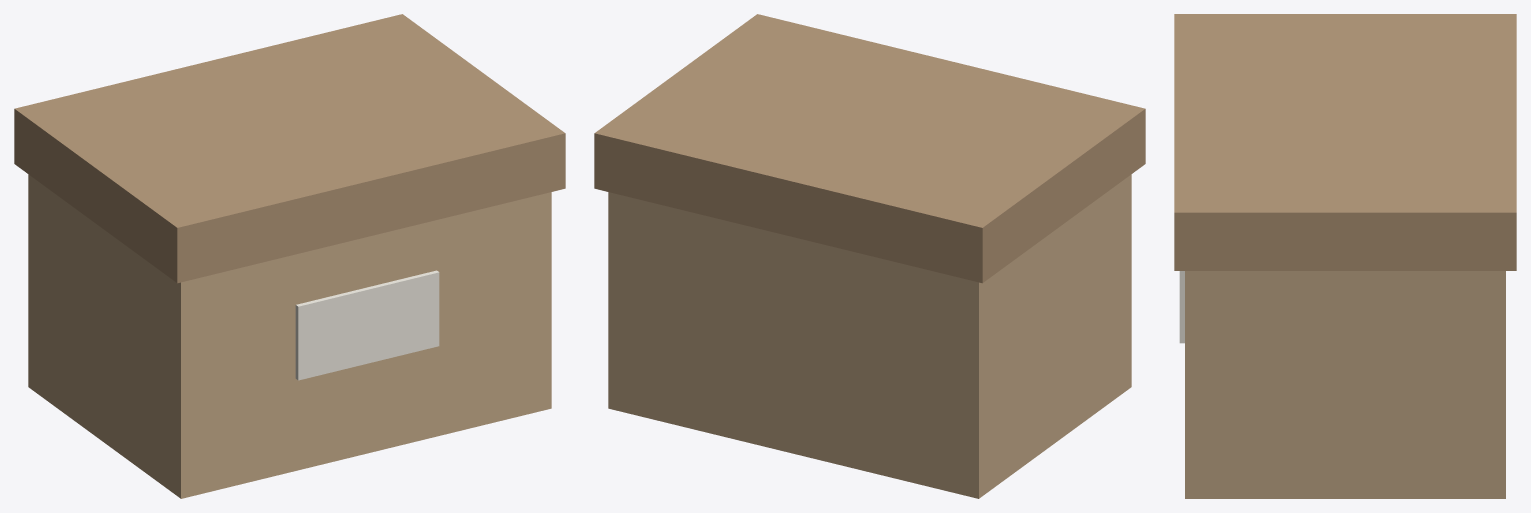
Rendered from pieza-prueba-caja.glb.
The picture shows the model from 3 angles, left to right: view 1: azimuth 30°, elevation 25°; view 2: azimuth 150°, elevation 25°; view 3: azimuth 270°, elevation 25°; orthographic projection. The views are drawn at different scales.
Visible parts, largest first — view 1: cuerpo, tapa, etiqueta; view 2: cuerpo, tapa; view 3: tapa, cuerpo, etiqueta.
Part boxes in pixels (box(x1,y1,x2,y2)): cuerpo: box(28, 174, 551, 498); tapa: box(14, 14, 565, 283); etiqueta: box(295, 270, 439, 380); cuerpo: box(608, 174, 1131, 498); tapa: box(594, 14, 1145, 283); tapa: box(1174, 14, 1516, 270); cuerpo: box(1185, 271, 1505, 498); etiqueta: box(1179, 271, 1184, 343).
Bounding box in the file's own units: 0.44 × 0.3 × 0.32.
